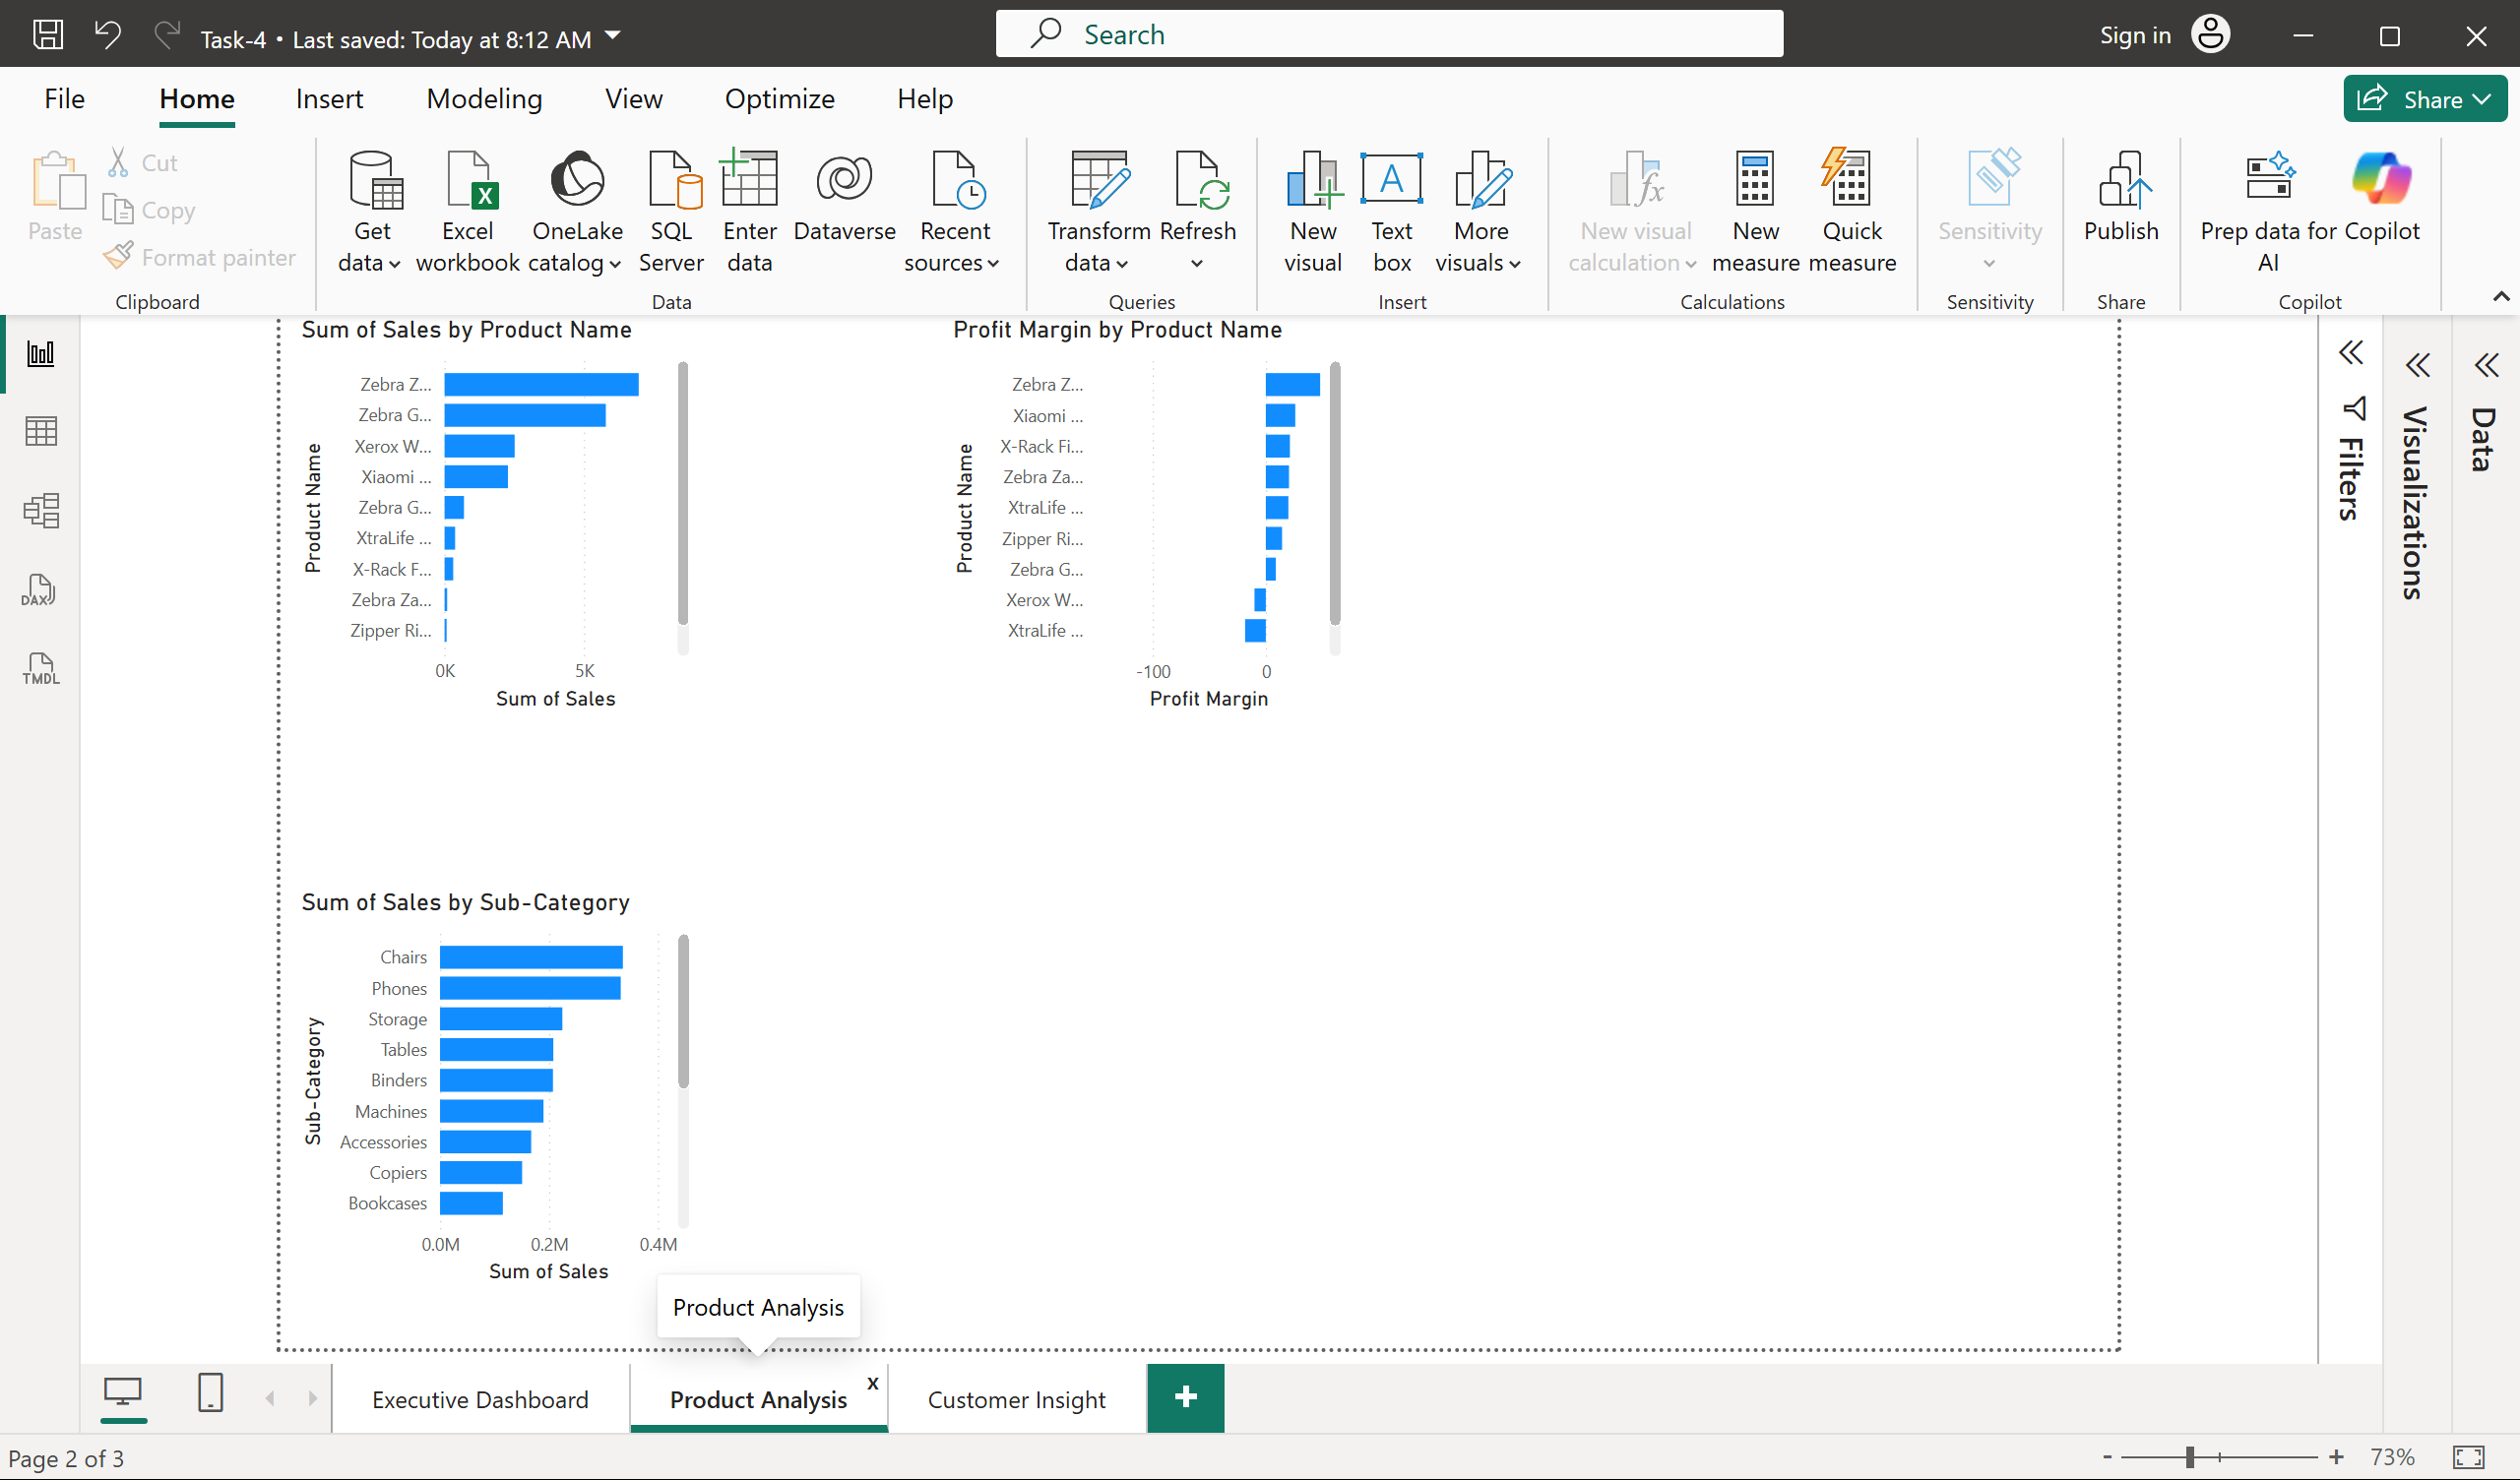

What the dashboard file says about the page in this screenshot:
{"tool":"powerbi","page":{"name":"Product Analysis","canvas":[1280,720],"ordinal":1},"visuals":[{"type":"clusteredBarChart","fields":{"Category":["samplesuperstore.Product Name"],"Y":["Sum(samplesuperstore.Sales)"]},"box":[10,0,280,280],"z":0},{"type":"clusteredBarChart","fields":{"Category":["samplesuperstore.Product Name"],"Y":["samplesuperstore.Profit Margin"]},"box":[463.9,0,280.2,280.2],"z":1000},{"type":"barChart","fields":{"Y":["Sum(samplesuperstore.Sales)"],"Category":["samplesuperstore.Sub-Category"]},"box":[9.5,399.5,280.2,280.2],"z":2000}]}

Visuals, with their boxes on the page's 1280x720 design canvas (x1, y1, x2, y2). These are canvas units, not pixel positions in the 2520x1480 screenshot, which may show the page scaled, cropped or inside an application window:
clusteredBarChart - samplesuperstore.Product Name x Sum(samplesuperstore.Sales): <box>10,0,290,280</box>
clusteredBarChart - samplesuperstore.Product Name x samplesuperstore.Profit Margin: <box>464,0,744,280</box>
barChart - Sum(samplesuperstore.Sales) x samplesuperstore.Sub-Category: <box>10,400,290,680</box>
